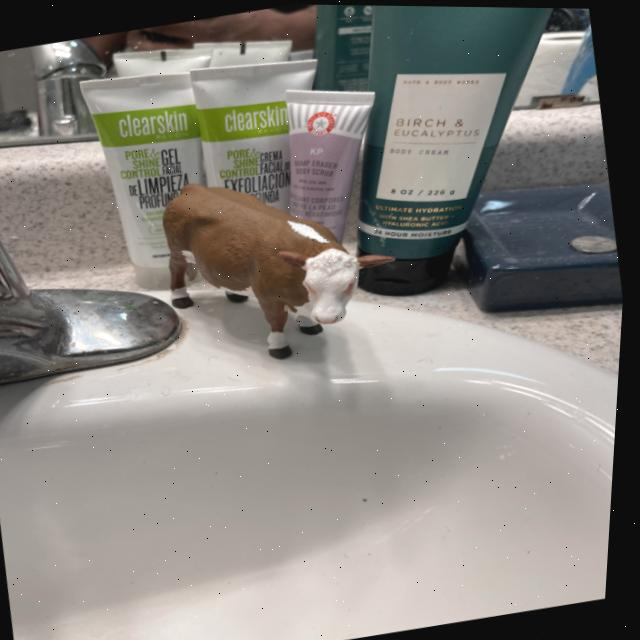cow: (130, 161, 397, 384)
